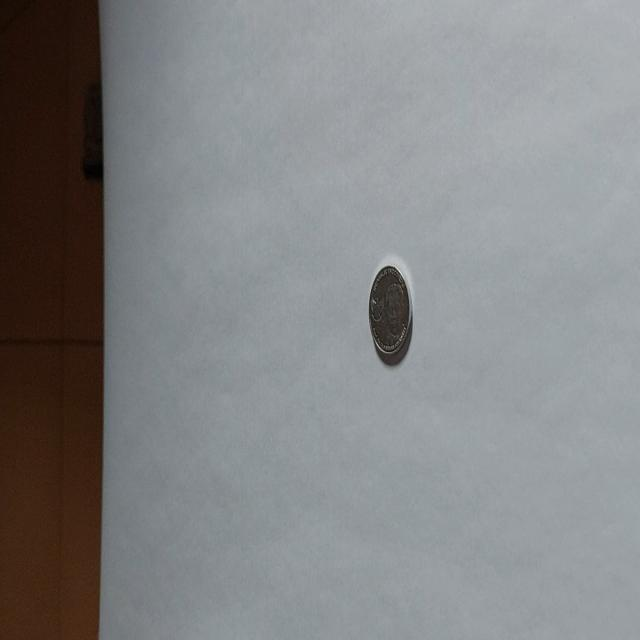seratus rupiah: (368, 263, 412, 365)
